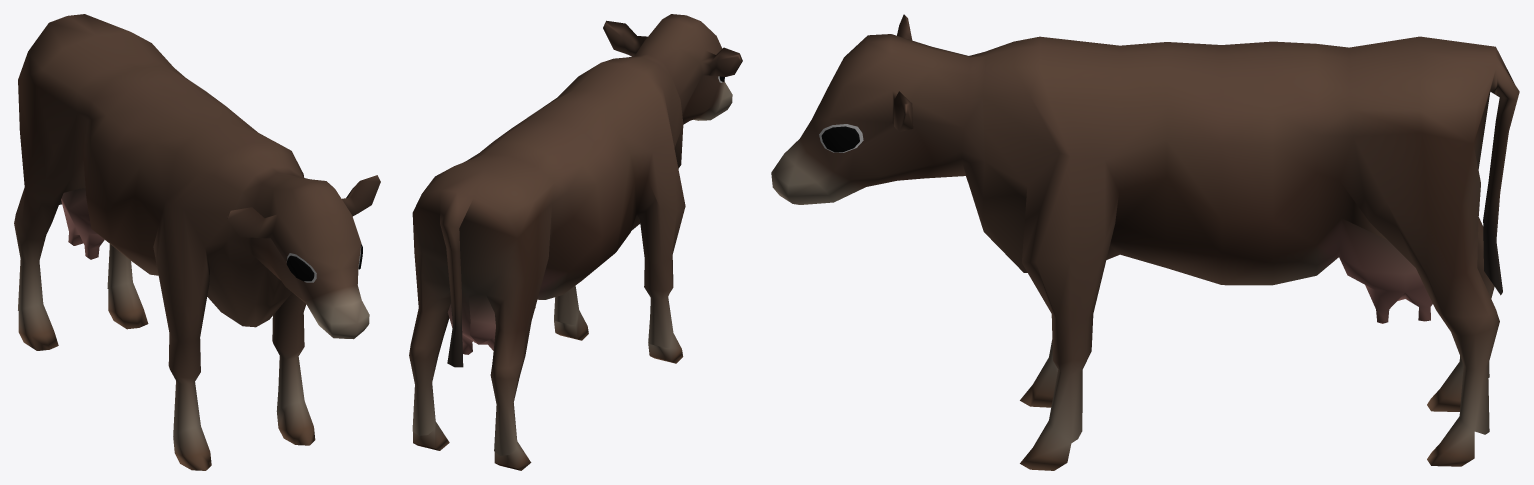
The model's file is animals-animals-browncow_v1.glb.
3 renders of one model, left to right at view 1: azimuth 30°, elevation 25°; view 2: azimuth 150°, elevation 25°; view 3: azimuth 270°, elevation 25°, orthographic. The views are drawn at different scales.
Visible parts, largest first — view 1: BrownCow_v1; view 2: BrownCow_v1; view 3: BrownCow_v1.
Boxes of the visible parts, left/top/right/bottom form: BrownCow_v1: left=14, top=14, right=380, bottom=470; BrownCow_v1: left=409, top=14, right=742, bottom=470; BrownCow_v1: left=771, top=14, right=1519, bottom=470.
Bounding box in the file's own units: 0.6662 × 1.3 × 2.26.
